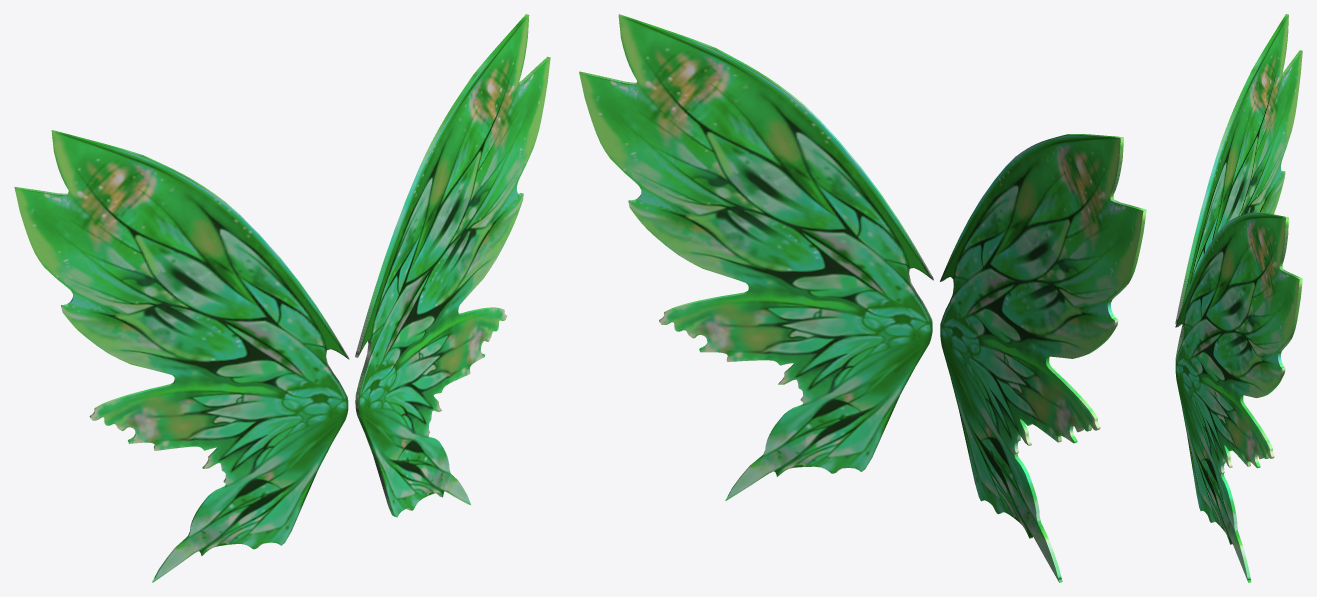
Rendered from Fairy_Wings_02.fbx.
3 renders of one model, left to right at view 1: azimuth 30°, elevation 25°; view 2: azimuth 150°, elevation 25°; view 3: azimuth 270°, elevation 25°, orthographic. The views are drawn at different scales.
Visible parts, largest first — view 1: FairyWings; view 2: FairyWings; view 3: FairyWings.
Part boxes in pixels (left/top/right/bottom): FairyWings: left=14, top=14, right=550, bottom=582; FairyWings: left=579, top=14, right=1146, bottom=582; FairyWings: left=1175, top=14, right=1302, bottom=582.
Bounding box in the file's own units: 10.84 × 8.8 × 2.55.
1 material, 1 textured.
